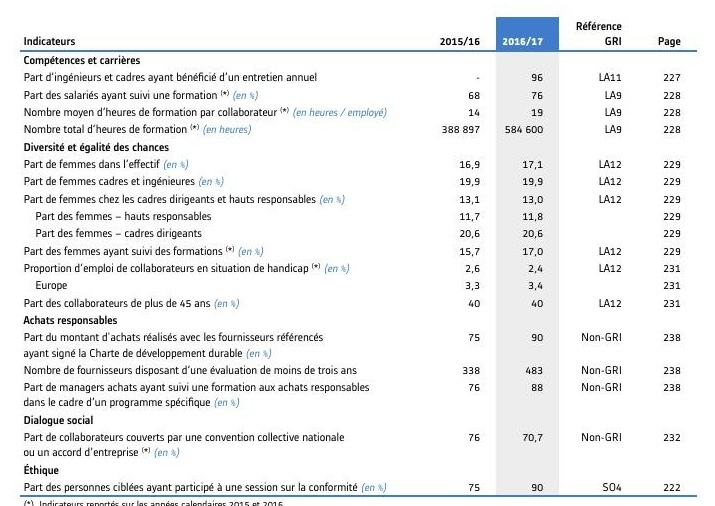table: (0, 0, 715, 506)
